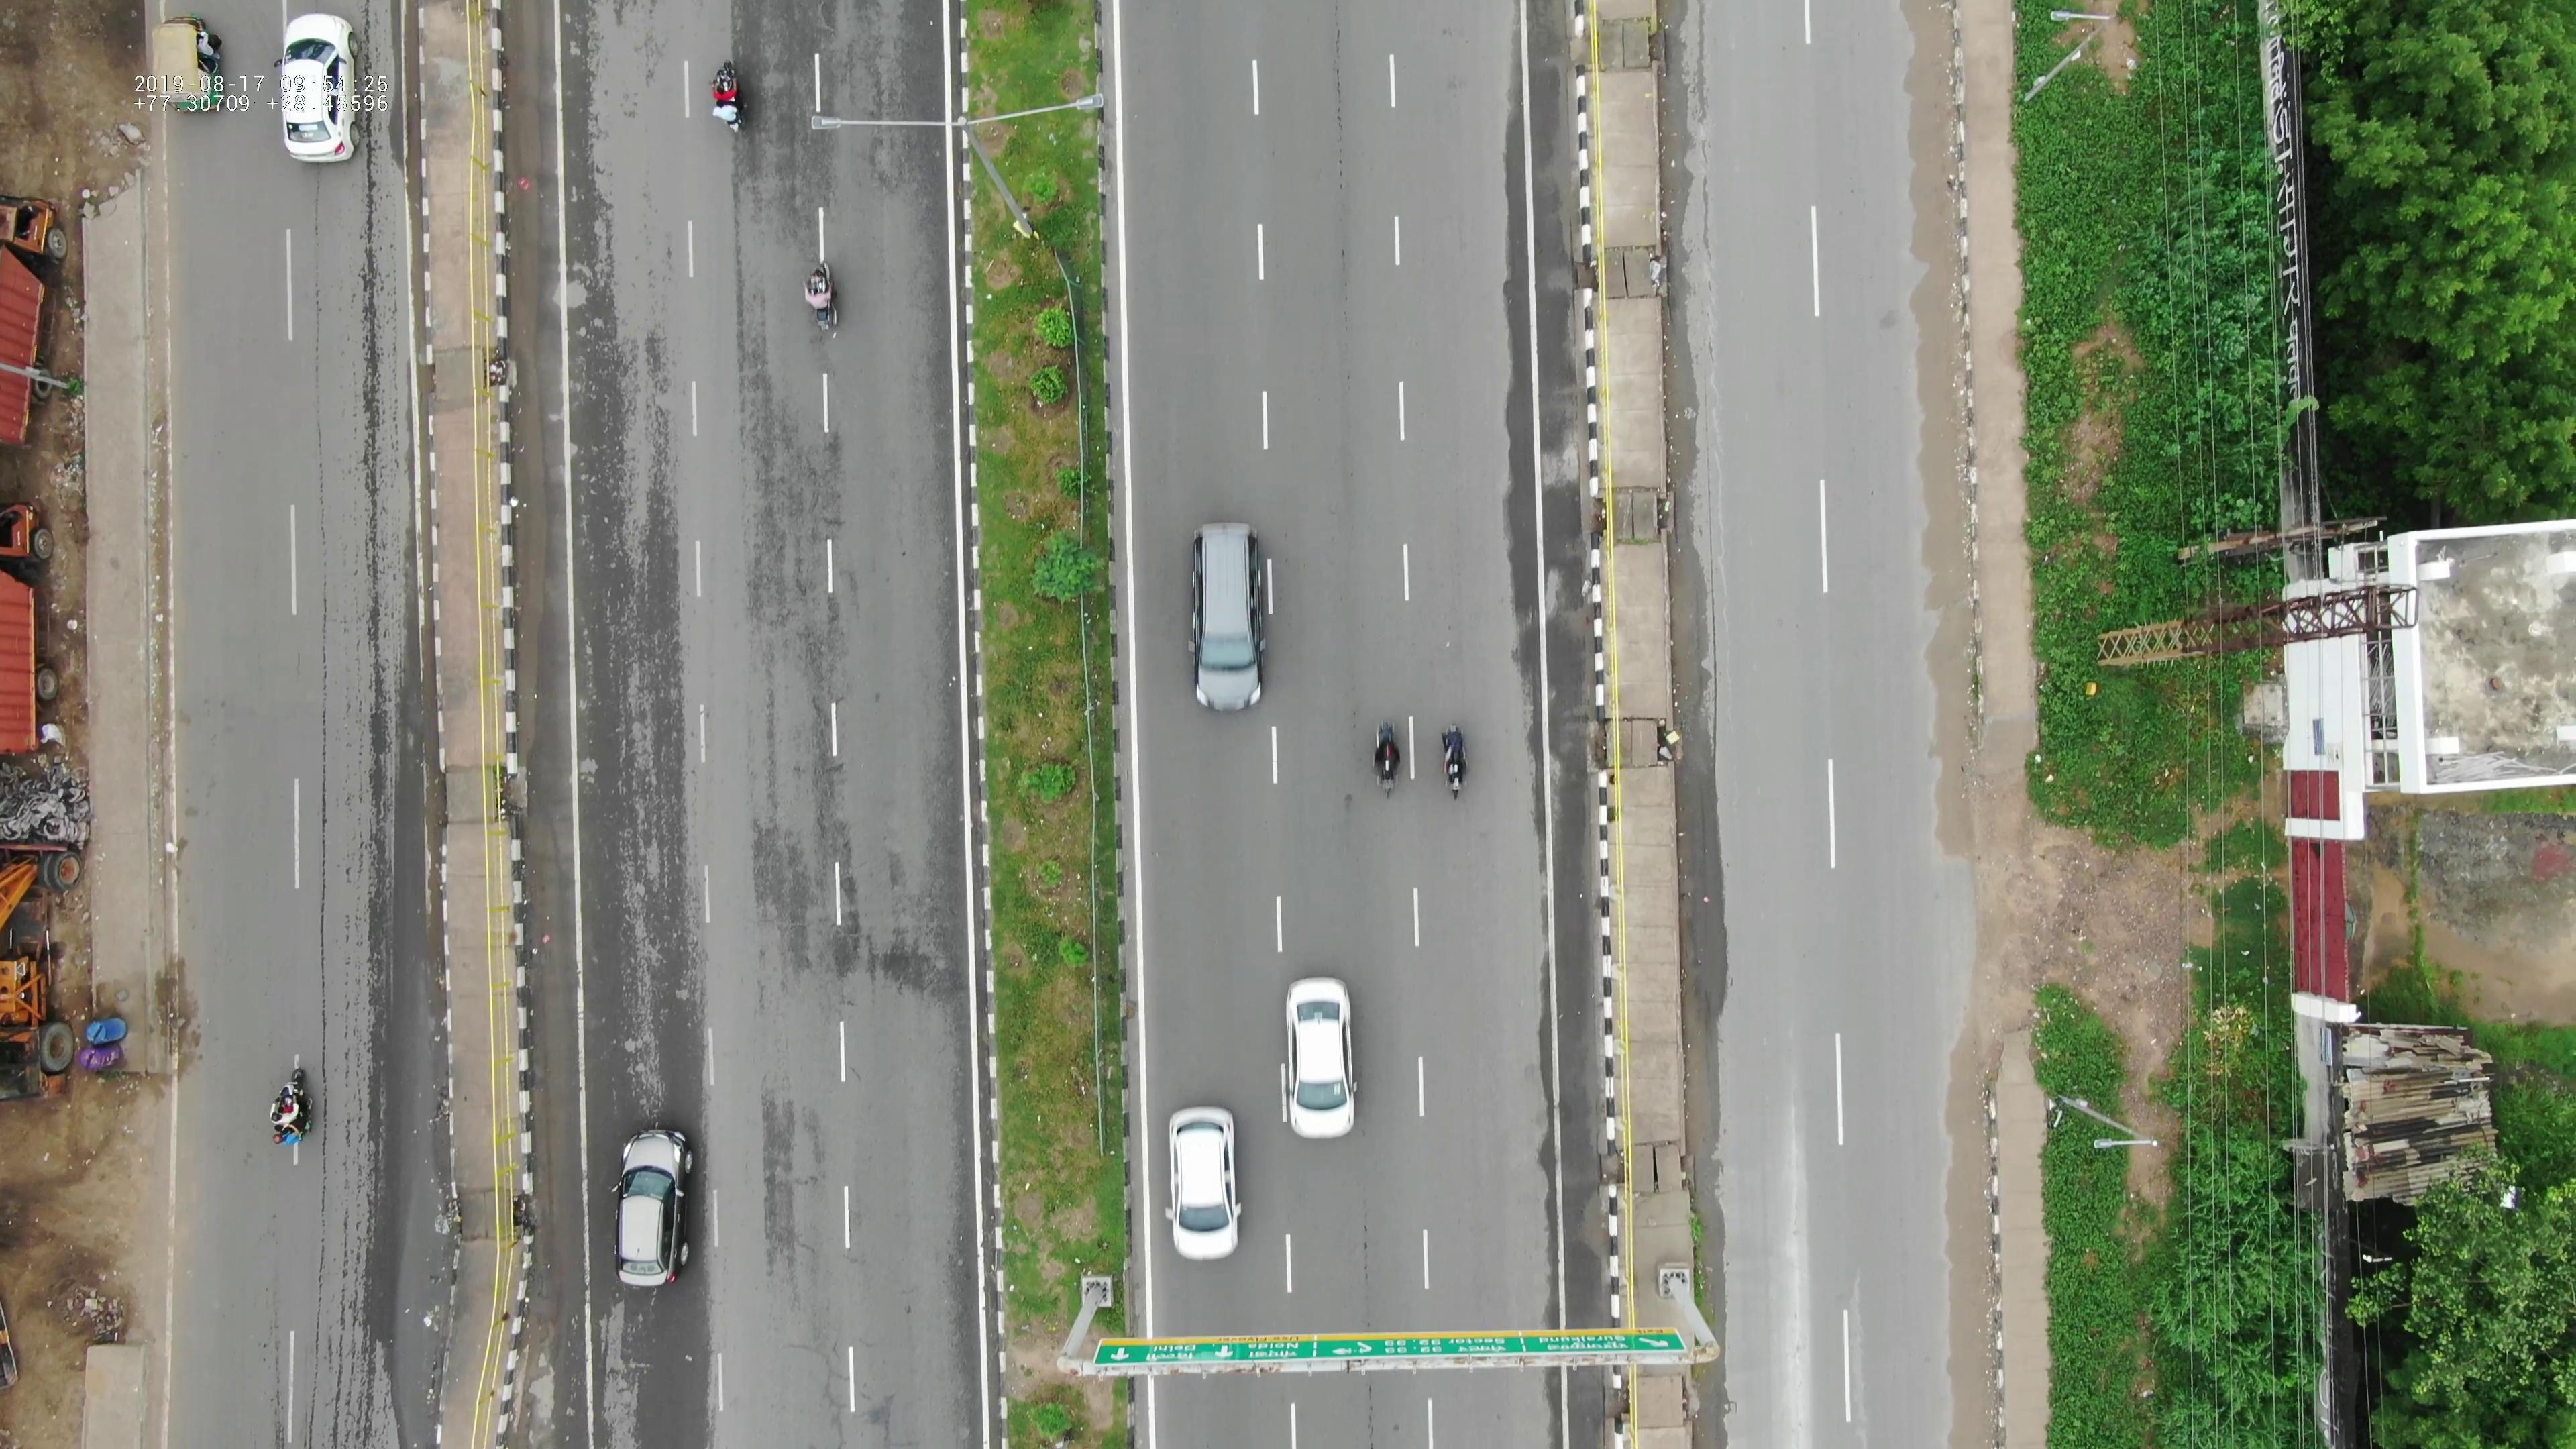Muddy_road: (1895, 361, 1985, 814), (1890, 19, 1985, 347), (1928, 1090, 2001, 1438)
